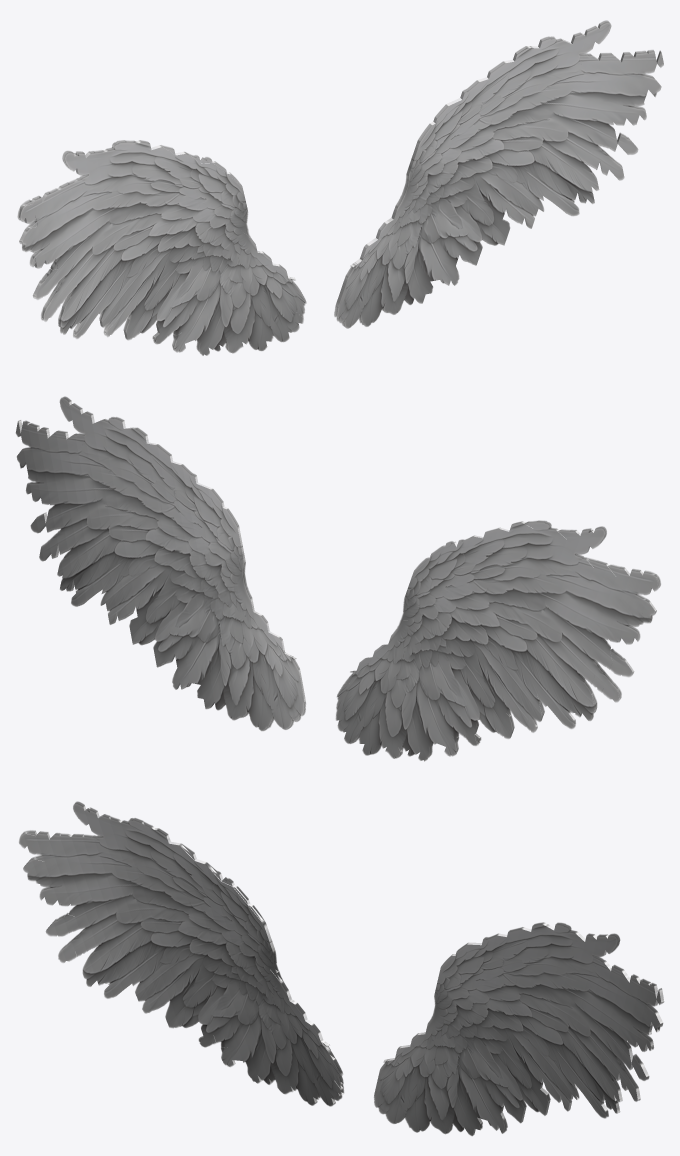
The model's file is angel_wings_3d.glb.
3 renders of one model, top to bottom at view 1: azimuth 30°, elevation 25°; view 2: azimuth 150°, elevation 25°; view 3: azimuth 330°, elevation 25°, orthographic.
Parts seen in each view (by area): view 1: RW_01 - Default_0, LW_01 - Default_0; view 2: LW_01 - Default_0, RW_01 - Default_0; view 3: LW_01 - Default_0, RW_01 - Default_0.
Part boxes in pixels (bbox=[...]): RW_01 - Default_0: bbox=[334, 20, 663, 328]; LW_01 - Default_0: bbox=[17, 140, 306, 355]; LW_01 - Default_0: bbox=[336, 520, 660, 761]; RW_01 - Default_0: bbox=[15, 396, 305, 730]; LW_01 - Default_0: bbox=[19, 801, 343, 1106]; RW_01 - Default_0: bbox=[374, 922, 664, 1135].
Size of the model in its own units: 2.25 by 0.9063 by 0.1746.
1 material, 1 textured.
